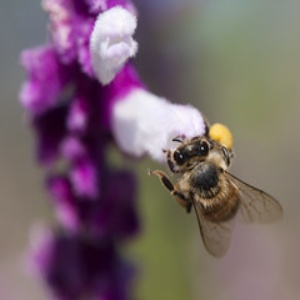bee: (148, 120, 286, 264)
